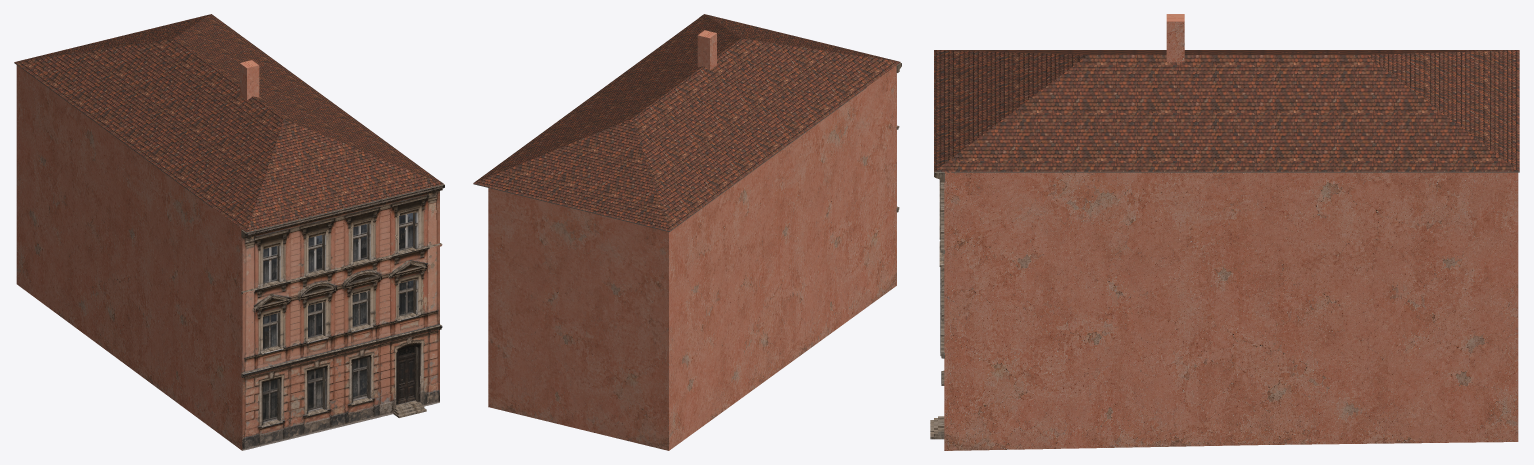
Rendered from cp266_study.glb.
3 renders of one model, left to right at view 1: azimuth 30°, elevation 25°; view 2: azimuth 150°, elevation 25°; view 3: azimuth 270°, elevation 25°, orthographic. The views are drawn at different scales.
Visible parts, largest first — view 1: CP_266_Masonry, CP_266_Roof, CP_266_Cornice_main_0, CP_266_Cornice_string1_0, CP_266_Cornice_string2_0, CP_266_Chimney_0; view 2: CP_266_Masonry, CP_266_Roof, CP_266_Chimney_0; view 3: CP_266_Masonry, CP_266_Roof, CP_266_Roof_EaveClosure_0, CP_266_Chimney_0.
Boxes of the visible parts, x1,y1,x2,y2 form: CP_266_Masonry: (16,65,439,450); CP_266_Roof: (14,14,443,232); CP_266_Cornice_main_0: (241,181,444,238); CP_266_Cornice_string1_0: (241,324,442,377); CP_266_Cornice_string2_0: (241,243,442,294); CP_266_Chimney_0: (239,60,259,100); CP_266_Masonry: (488,65,896,450); CP_266_Roof: (473,14,900,231); CP_266_Chimney_0: (697,30,716,70); CP_266_Masonry: (944,171,1518,450); CP_266_Roof: (934,50,1519,171); CP_266_Roof_EaveClosure_0: (951,171,1519,172); CP_266_Chimney_0: (1166,14,1184,62).
Bounding box in the file's own units: 11.29 × 16 × 22.95.
5 materials, 4 textured.
